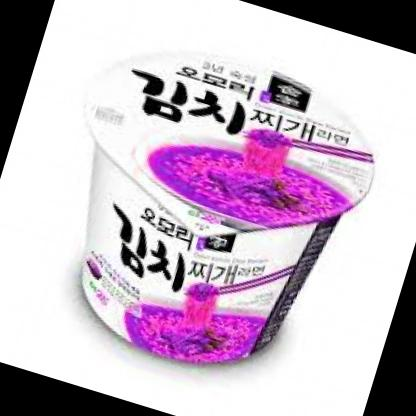Ramen: (23, 20, 384, 392)
